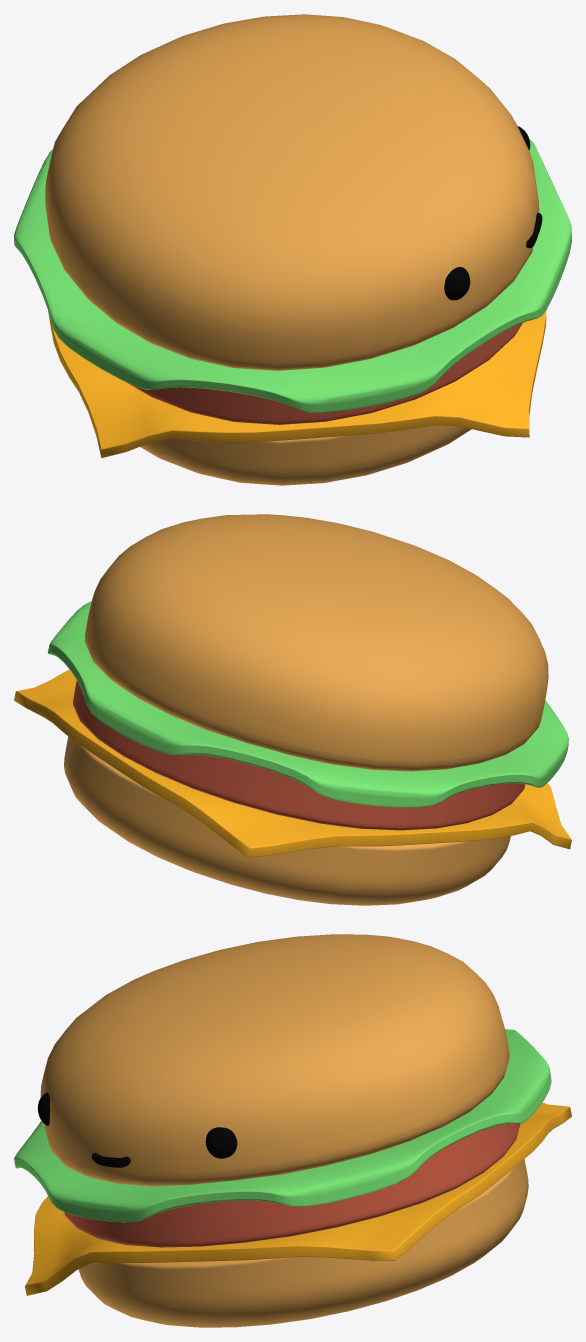
3 views of the same model, one above another, from view 1: azimuth 30°, elevation 25°; view 2: azimuth 150°, elevation 25°; view 3: azimuth 270°, elevation 25° (orthographic). The views are drawn at different scales.
Parts seen in each view (by area): view 1: Cube_2, Cylinder_3, Plane_5, Cube.003_6, Cube.001_4, Cube.002_7; view 2: Cube_2, Cube.003_6, Cylinder_3, Plane_5, Cube.001_4; view 3: Cube_2, Cube.003_6, Cylinder_3, Plane_5, Cube.001_4, Cube.004_8.
Part boxes in pixels (x1,y1,x2,y2): Cube_2: (45,14,539,370); Cylinder_3: (14,140,571,412); Plane_5: (48,310,546,458); Cube.003_6: (140,425,471,485); Cube.001_4: (126,323,522,424); Cube.002_7: (444,267,470,300); Cube_2: (84,514,548,771); Cube.003_6: (64,736,510,905); Cylinder_3: (47,601,568,807); Plane_5: (14,669,571,857); Cube.001_4: (73,680,525,830); Cube_2: (40,934,509,1186); Cube.003_6: (78,1159,528,1327); Cylinder_3: (14,1029,551,1222); Plane_5: (25,1102,571,1295); Cube.001_4: (64,1123,520,1247); Cube.004_8: (205,1127,237,1158).
Size of the model in its own units: 3.32 by 2.16 by 3.34.
